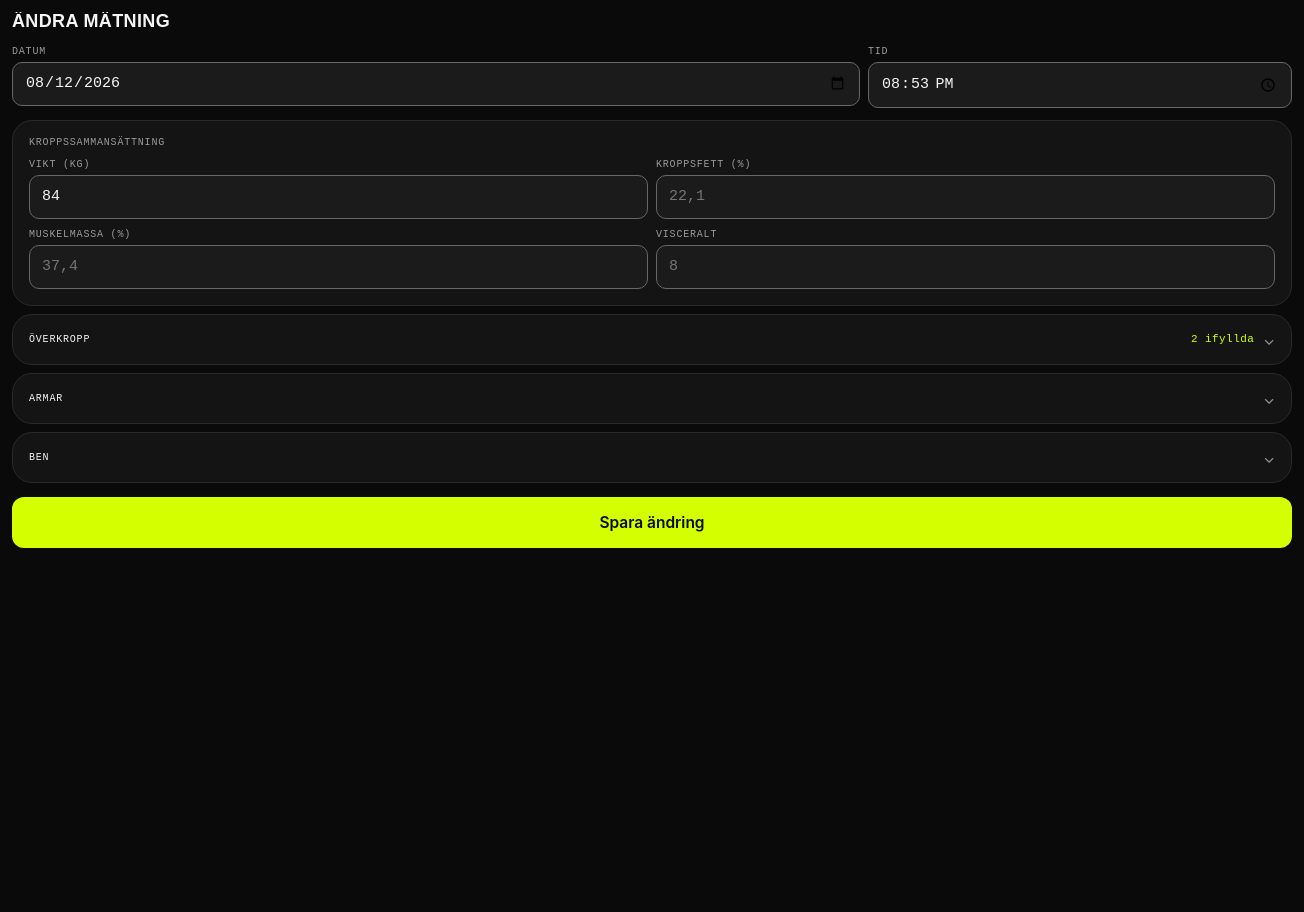
redigera och radera via vyn › formuläret fylls med postens värden
Check: the field labelled "Vikt (kg)" holds "84", box [29,174,648,218]
What coordinates should you click on to do the following:
click the button "Överkropp 2 ifyllda ⌄"
I would click on:
 (60, 339)
Its box is [13,314,1291,364].
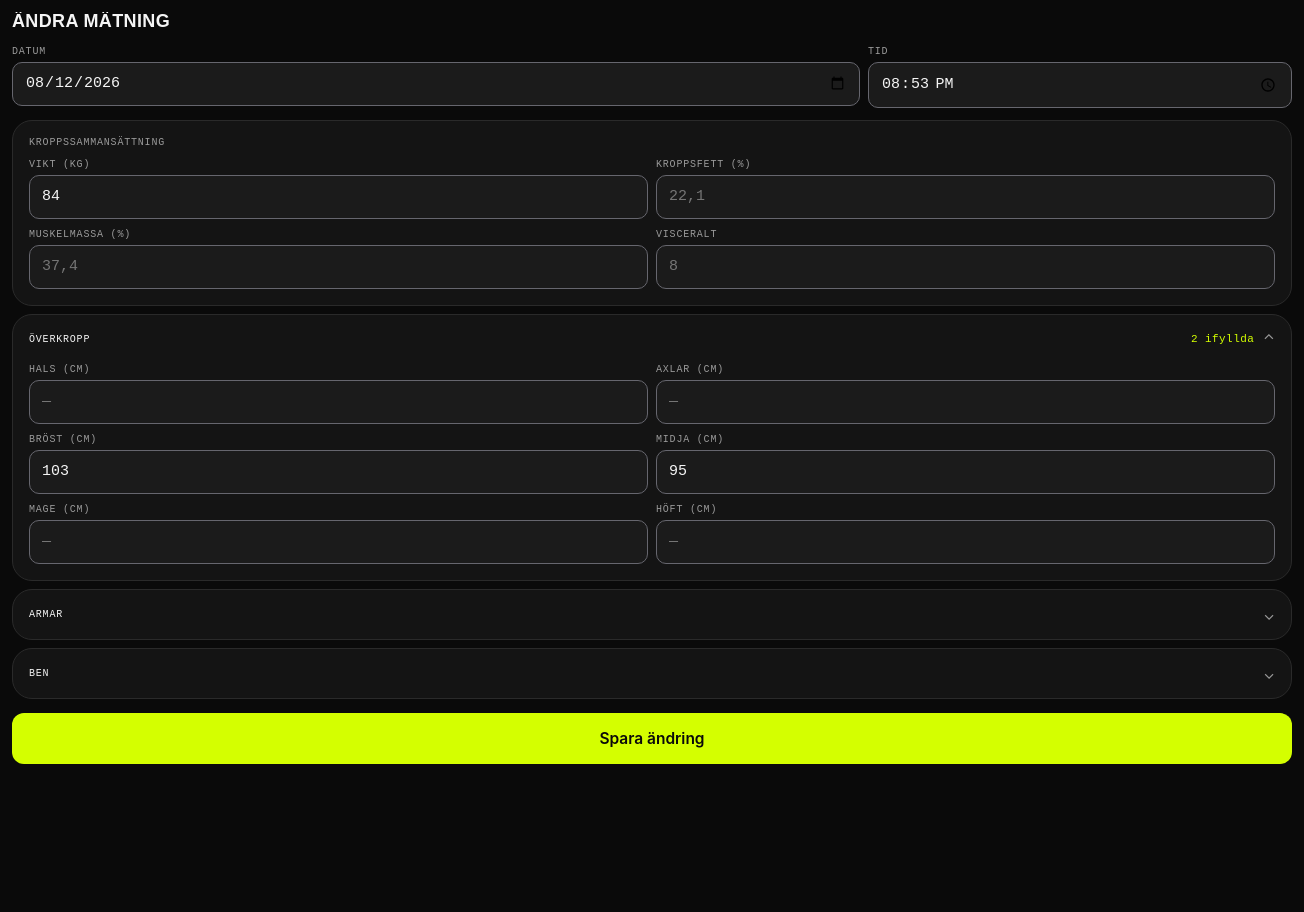
Check: the field labelled "Midja (cm)" holds "95", box [656,450,1275,494]
